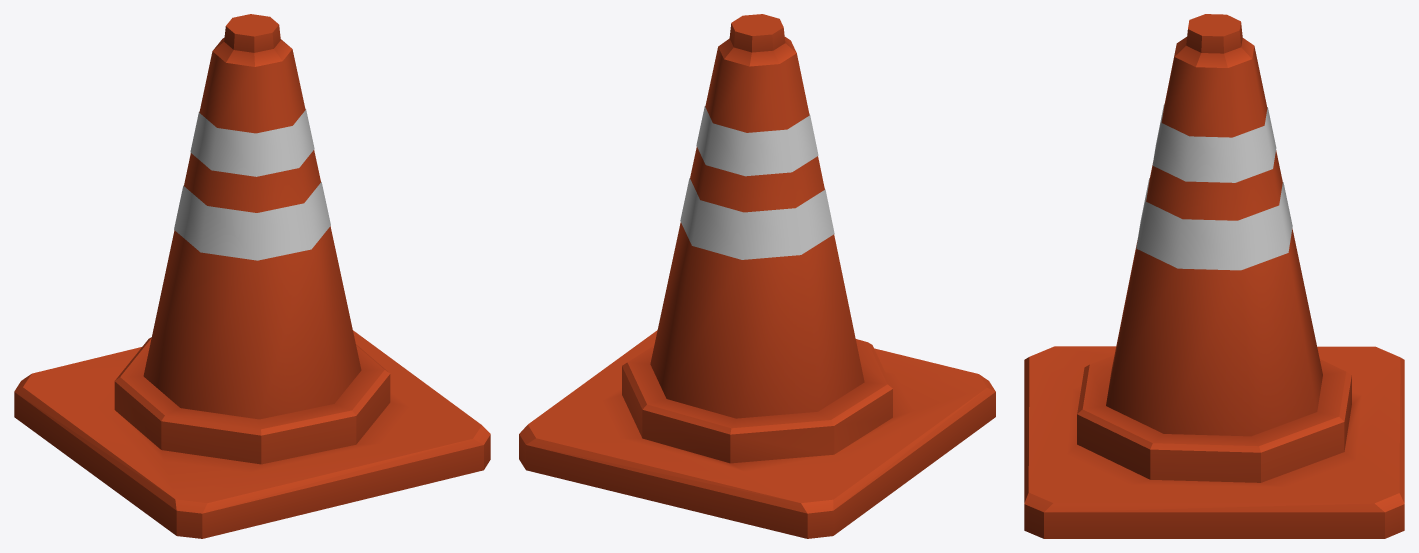
Rendered from Lavacorn_SM.fbx.
The picture shows the model from 3 angles, left to right: view 1: azimuth 30°, elevation 25°; view 2: azimuth 150°, elevation 25°; view 3: azimuth 270°, elevation 25°; orthographic projection. The views are drawn at different scales.
Visible parts, largest first — view 1: Lavacorn_SM; view 2: Lavacorn_SM; view 3: Lavacorn_SM.
Boxes of the visible parts, box(x1,y1,x2,y2) form: Lavacorn_SM: box(14, 14, 490, 538); Lavacorn_SM: box(519, 14, 995, 538); Lavacorn_SM: box(1024, 14, 1404, 538).
Bounding box in the file's own units: 59.71 × 75.02 × 59.71.
